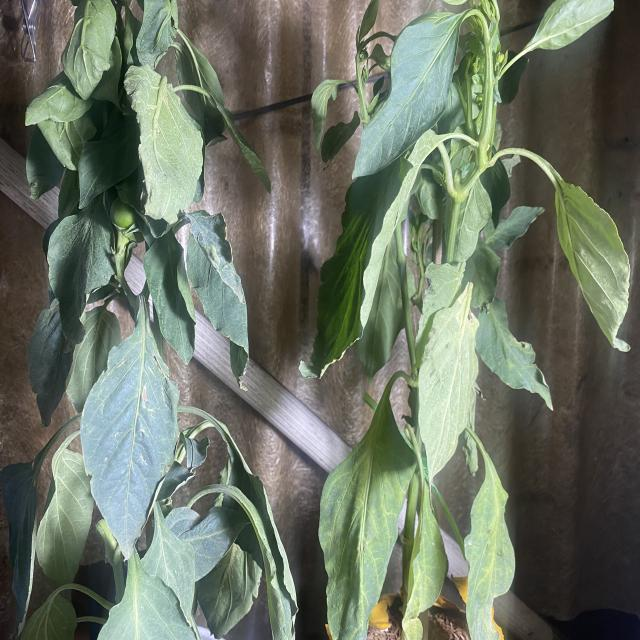Leaf: (81, 331, 181, 560), (318, 407, 414, 640), (349, 10, 463, 179), (554, 181, 634, 354), (418, 282, 480, 490), (124, 61, 204, 222), (48, 210, 115, 350)
